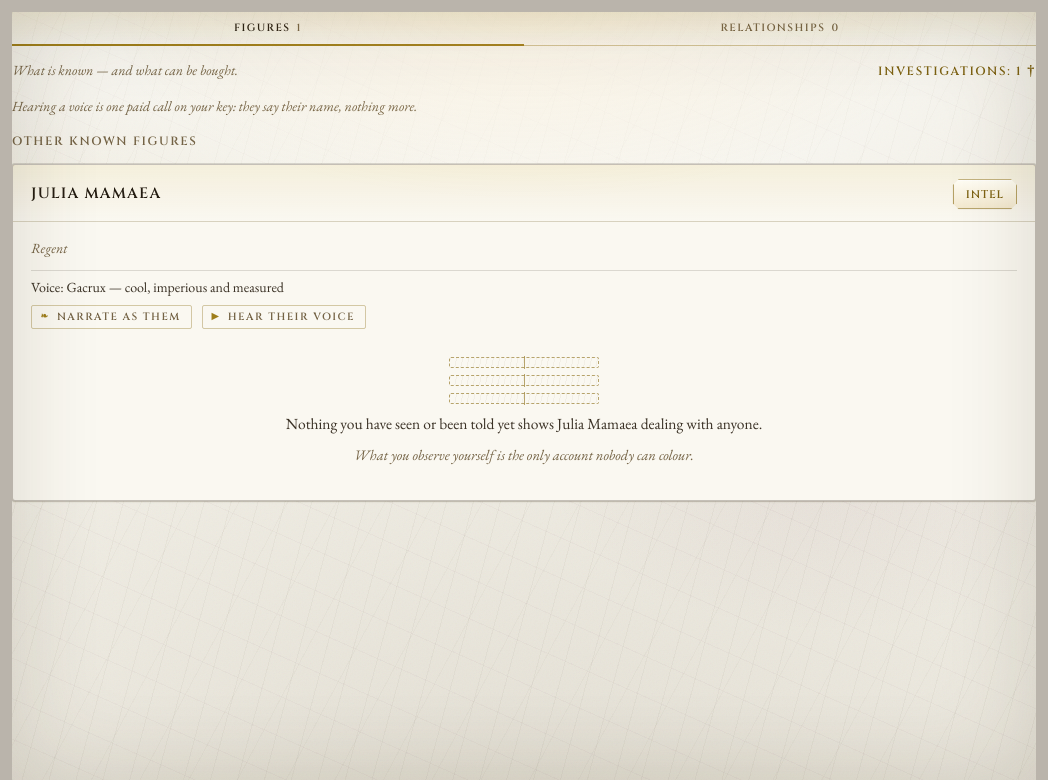
Test case: the Personae voice row › "Narrate as them" sets "In character…" with this character - the Settings state - and confirms
The image size is (1048, 780).
Click the button "❧ Narrate as them": click(111, 317) [31, 305, 192, 329]
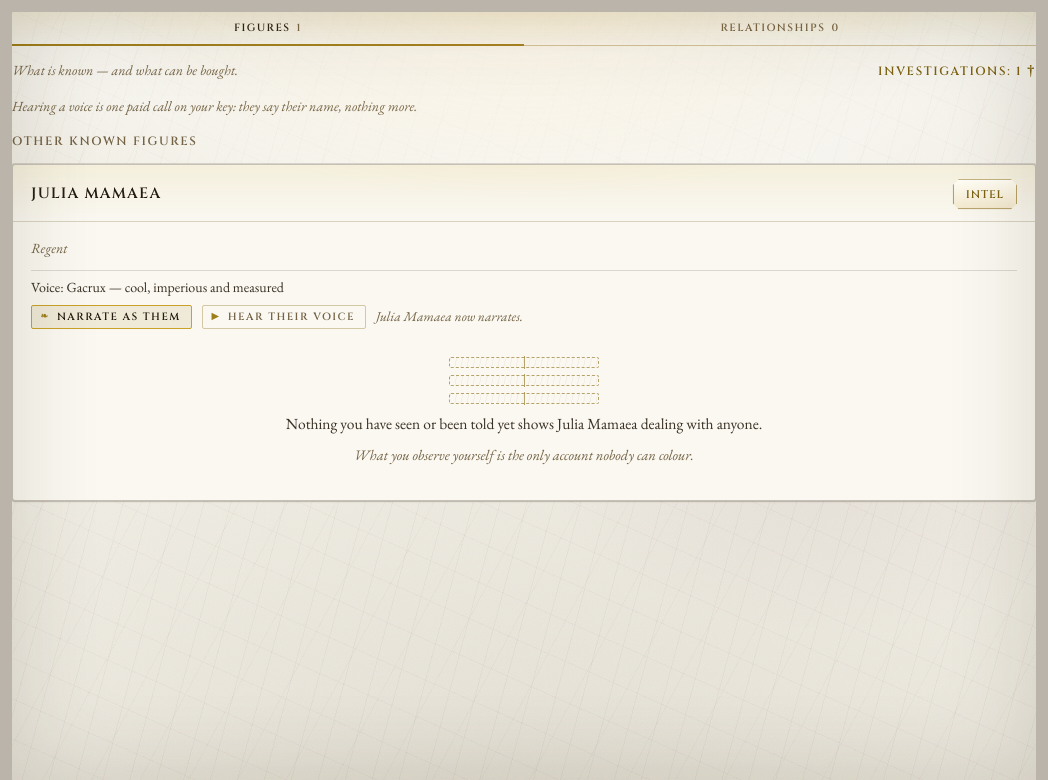
expect the element with class "gor-persona-voice" shows "Julia Mamaea now narrates.": met, box [376, 307, 523, 325]
